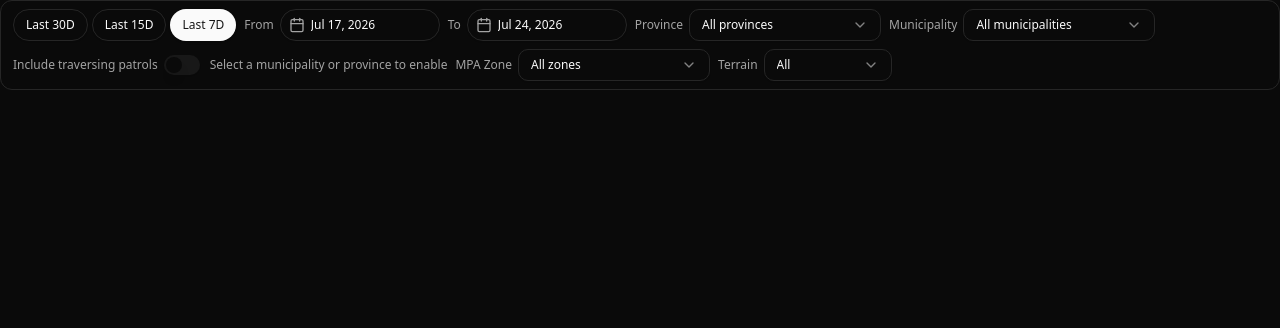
ReportFilterBar › filters the MPA Zone options to only the selected municipality's zones
The image size is (1280, 328).
Step 1. Click the dropdown with test id "report-municipality" → (1059, 25), box 963,9 -> 1155,41
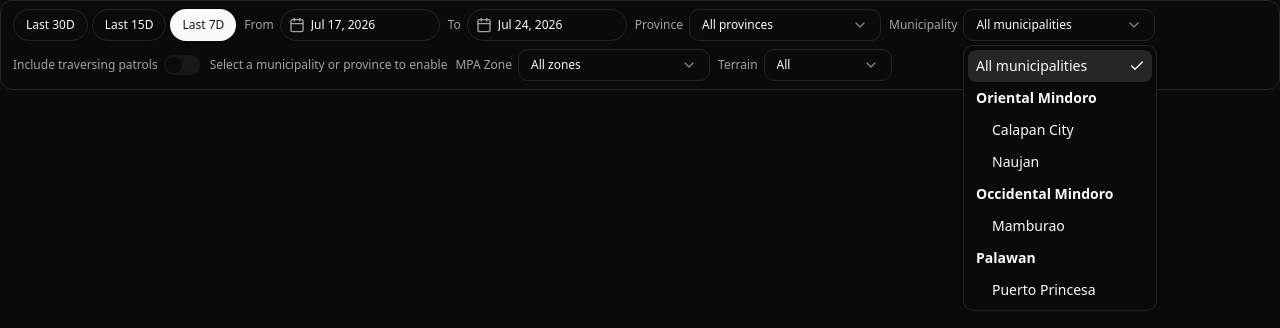
Step 2. Click the option "Calapan City" → (1033, 130), box 992,120 -> 1074,139
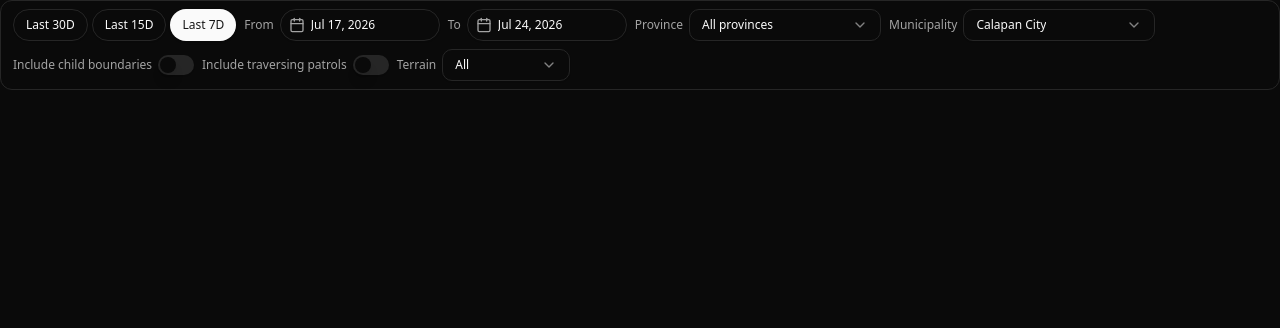
Step 3. Click the switch with test id "report-include-children" → (176, 65), box 158,55 -> 194,75
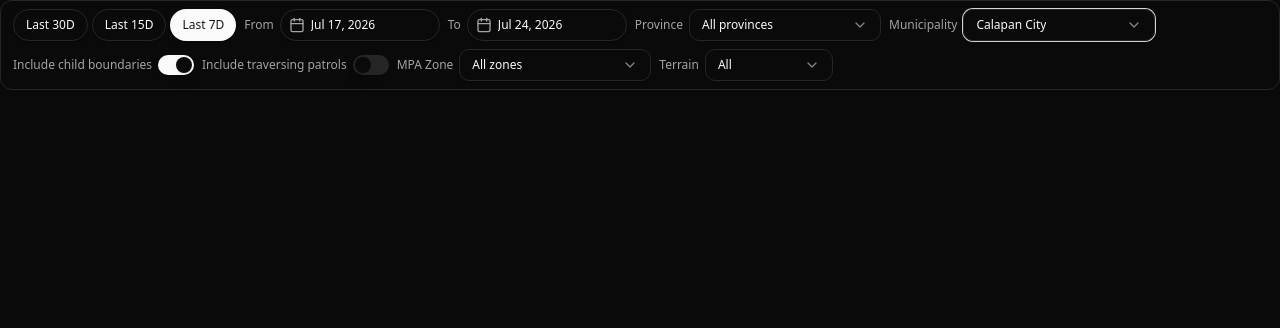
Result: the dropdown with test id "report-protected-zone" is shown
Step 4. Click the dropdown with test id "report-protected-zone" → (555, 65), box 459,49 -> 651,81
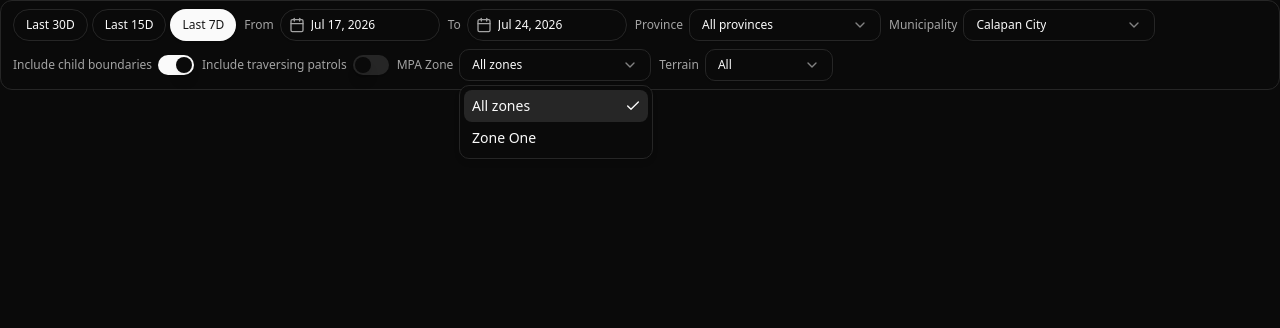
Result: the text "Zone One" is shown at 472,128 -> 536,148
